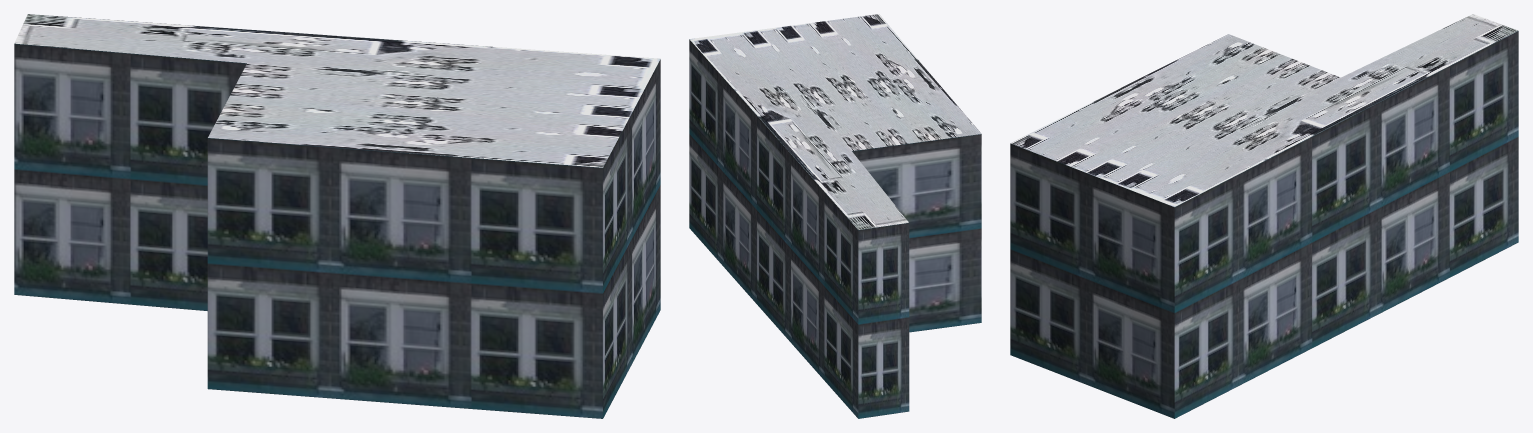
Rendered from ResTex__2275.fbx.
3 views of the same model, side by side, from view 1: azimuth 30°, elevation 25°; view 2: azimuth 150°, elevation 25°; view 3: azimuth 270°, elevation 25° (orthographic). The views are drawn at different scales.
Visible parts, largest first — view 1: CityEngineMaterial_11_m, CityEngineMaterial_m; view 2: CityEngineMaterial_11_m, CityEngineMaterial_m; view 3: CityEngineMaterial_11_m, CityEngineMaterial_m.
Boxes of the visible parts, <box> form: CityEngineMaterial_11_m: <box>14,43,660,418</box>; CityEngineMaterial_m: <box>14,14,660,167</box>; CityEngineMaterial_11_m: <box>689,39,981,418</box>; CityEngineMaterial_m: <box>689,14,981,229</box>; CityEngineMaterial_11_m: <box>1010,31,1518,418</box>; CityEngineMaterial_m: <box>1010,14,1517,206</box>.
Bounding box in the file's own units: 11.74 × 6 × 13.05.
2 materials, 2 textured.
